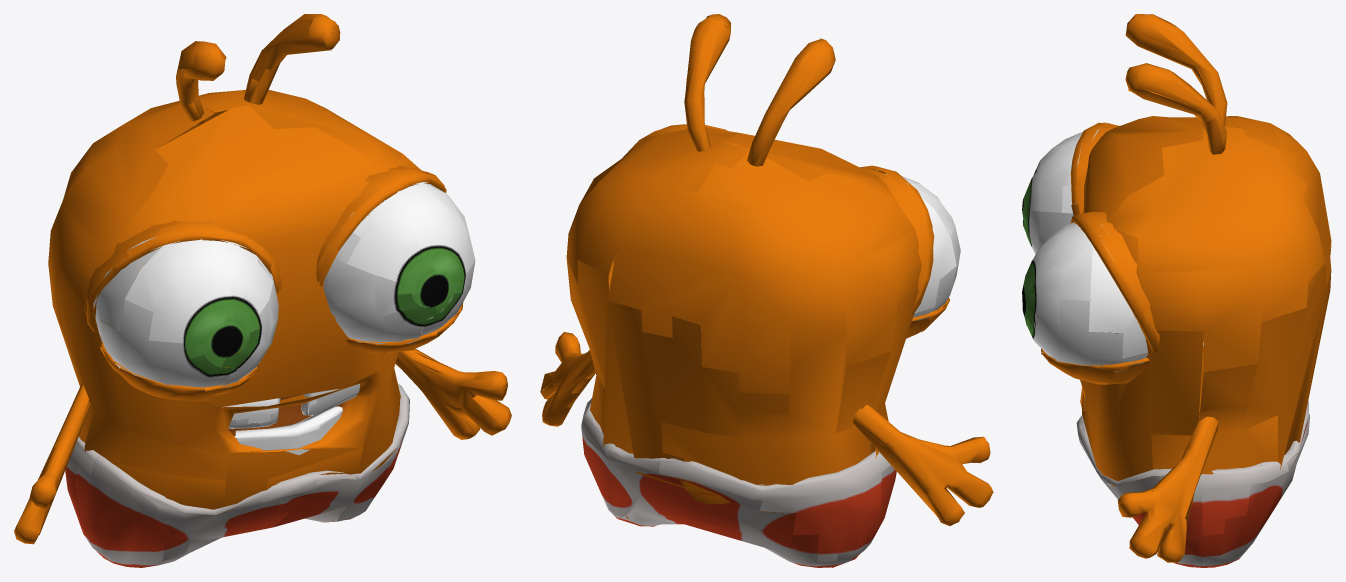
File: starling.glb
The picture shows the model from 3 angles, left to right: view 1: azimuth 30°, elevation 25°; view 2: azimuth 150°, elevation 25°; view 3: azimuth 270°, elevation 25°; orthographic projection. The views are drawn at different scales.
Visible parts, largest first — view 1: Galaxy Life Starling - Mikelica_0; view 2: Galaxy Life Starling - Mikelica_0; view 3: Galaxy Life Starling - Mikelica_0.
Part boxes in pixels (bbox=[...]): Galaxy Life Starling - Mikelica_0: bbox=[14, 14, 511, 567]; Galaxy Life Starling - Mikelica_0: bbox=[540, 14, 993, 567]; Galaxy Life Starling - Mikelica_0: bbox=[1022, 14, 1331, 567].
Size of the model in its own units: 0.6892 by 0.7062 by 0.4161.
Materials: 2 (1 with a texture image).
